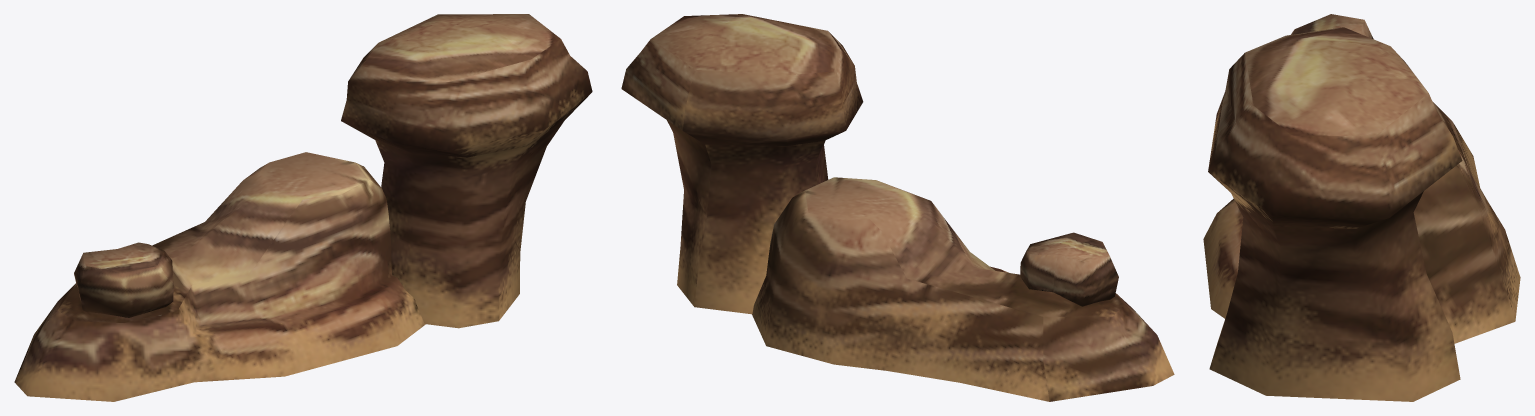
File: shitou01.FBX
The picture shows the model from 3 angles, left to right: view 1: azimuth 30°, elevation 25°; view 2: azimuth 150°, elevation 25°; view 3: azimuth 270°, elevation 25°; orthographic projection. The views are drawn at different scales.
Visible parts, largest first — view 1: shitou01; view 2: shitou01; view 3: shitou01.
Boxes of the visible parts, left/top/right/bottom form: shitou01: left=14, top=14, right=592, bottom=401; shitou01: left=621, top=14, right=1174, bottom=401; shitou01: left=1203, top=14, right=1520, bottom=401.
Size of the model in its own units: 593 by 259 by 239.
